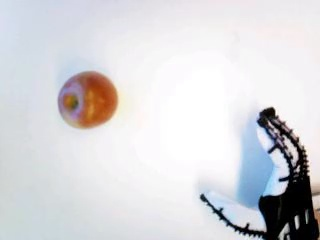apple: (55, 69, 118, 130)
hand: (198, 107, 320, 240)
